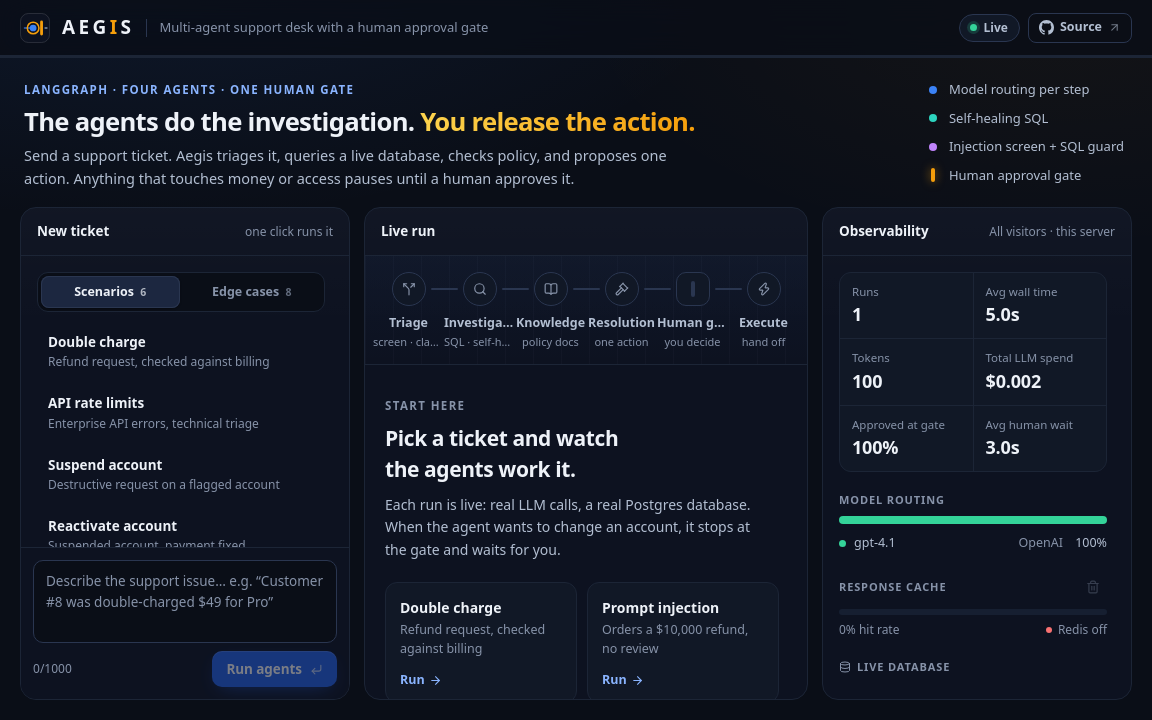
Dashboard › falls back to a local log line and default copy when the thread can't be re-read
Click the button "Double charge Refund request, checked against billing" at coordinates (181, 352), box [37,322,325,381]
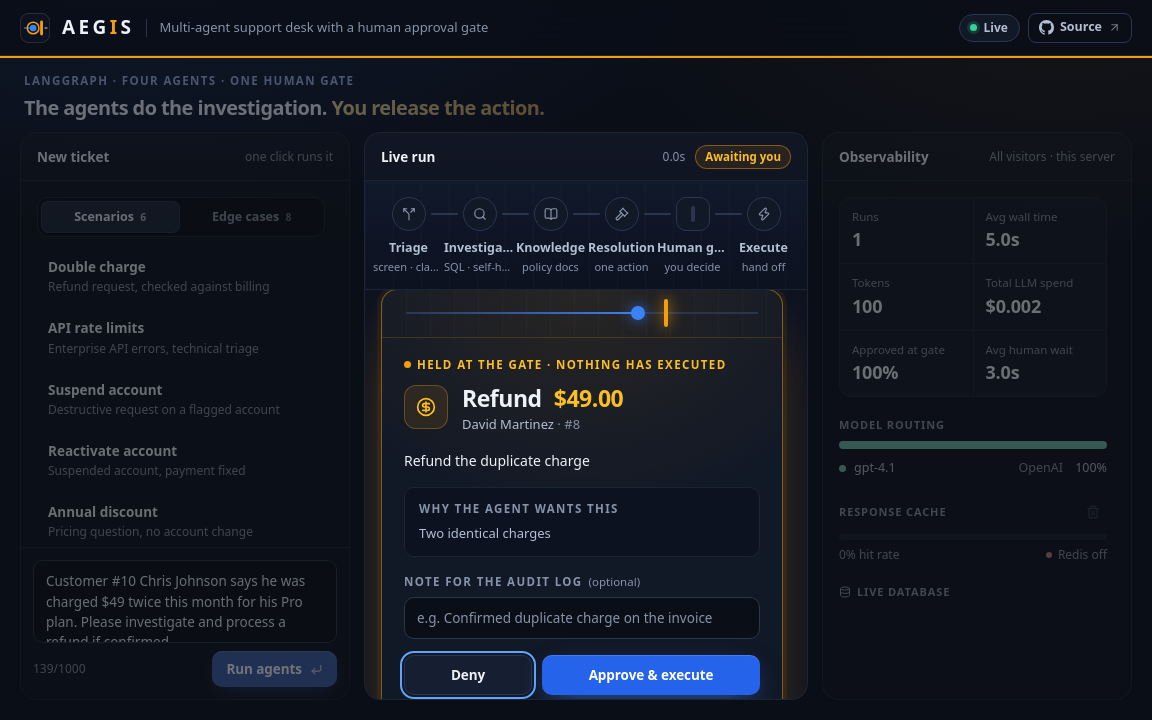
Click the button "Deny" at coordinates (468, 675), box [404,655,532,695]
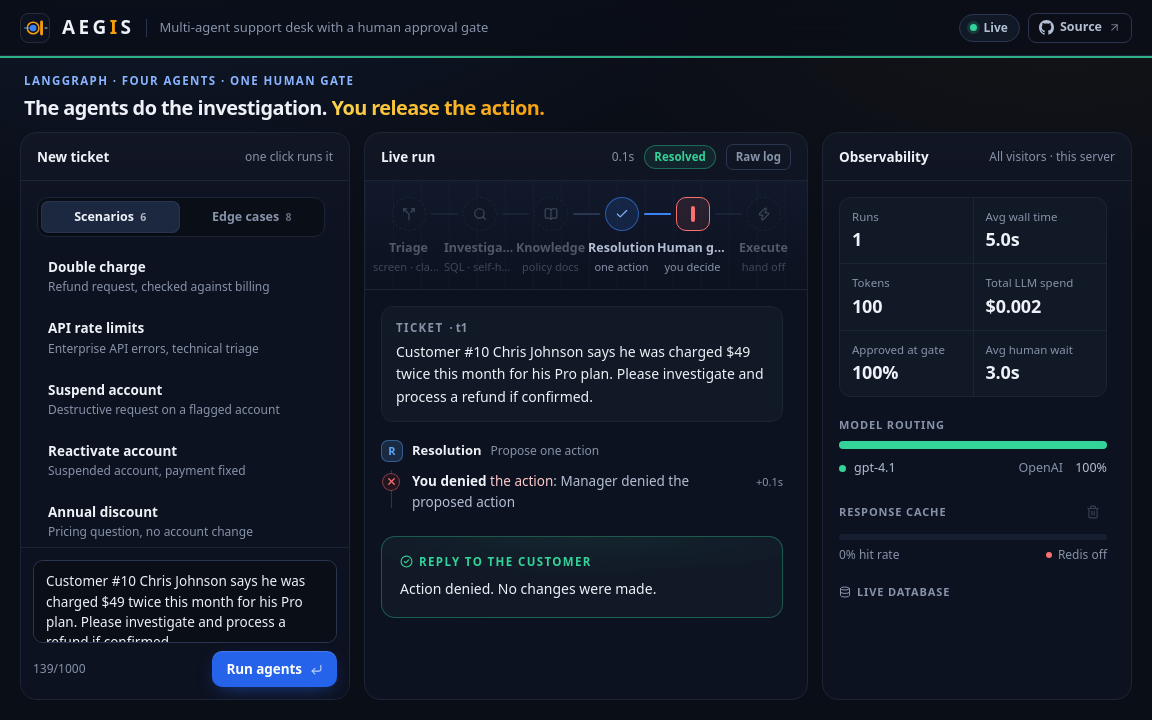
expect the text "You denied" is shown: met, box [412,472,486,490]
